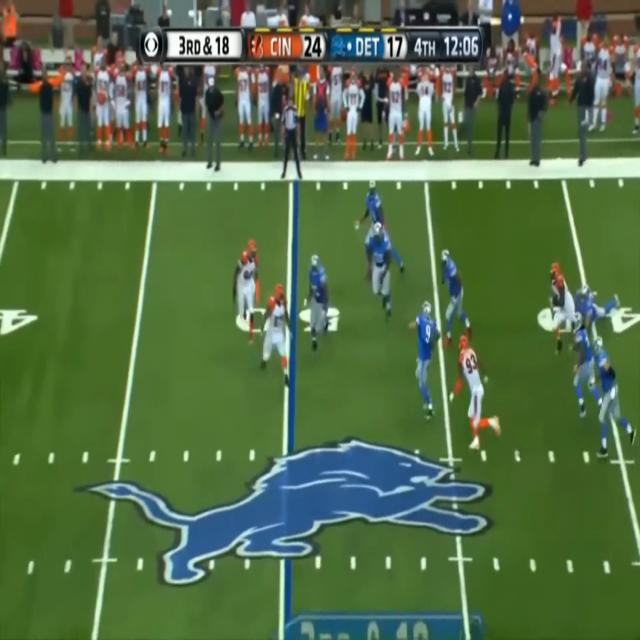players: (450, 337, 502, 464), (589, 338, 637, 461), (410, 301, 446, 423), (255, 285, 295, 390), (435, 246, 473, 353), (366, 218, 405, 321), (232, 235, 265, 344), (305, 254, 338, 362), (571, 310, 600, 424), (549, 264, 574, 359)
